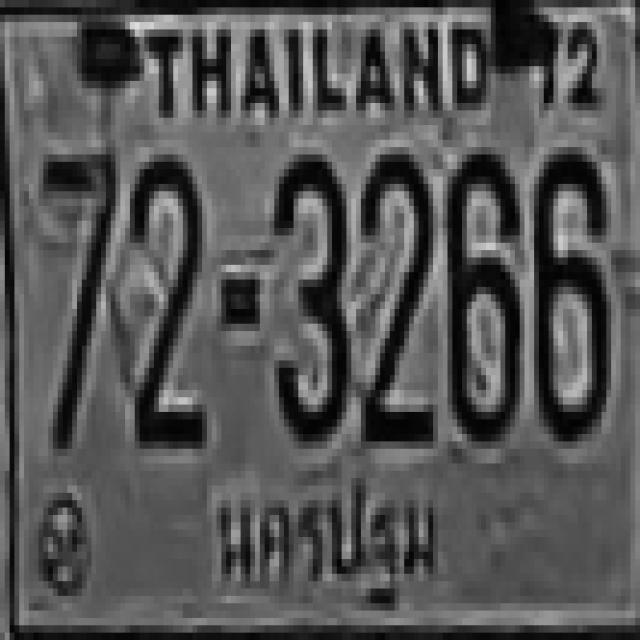2: (358, 147, 431, 442), (130, 147, 202, 442)
3: (270, 147, 346, 434)
6: (530, 140, 606, 434), (445, 147, 517, 434)
7: (38, 144, 116, 445), (38, 143, 116, 357)
NakhonPathom: (198, 466, 452, 620)
